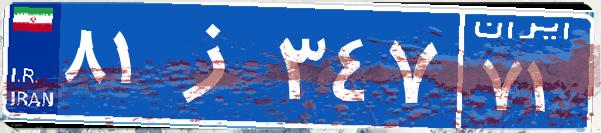1: (110, 28, 158, 105), (525, 38, 570, 115)
3: (273, 28, 330, 110)
4: (330, 28, 385, 110)
7: (385, 28, 445, 110), (475, 38, 525, 113)
8: (57, 26, 110, 107)
ز: (158, 15, 273, 115)
